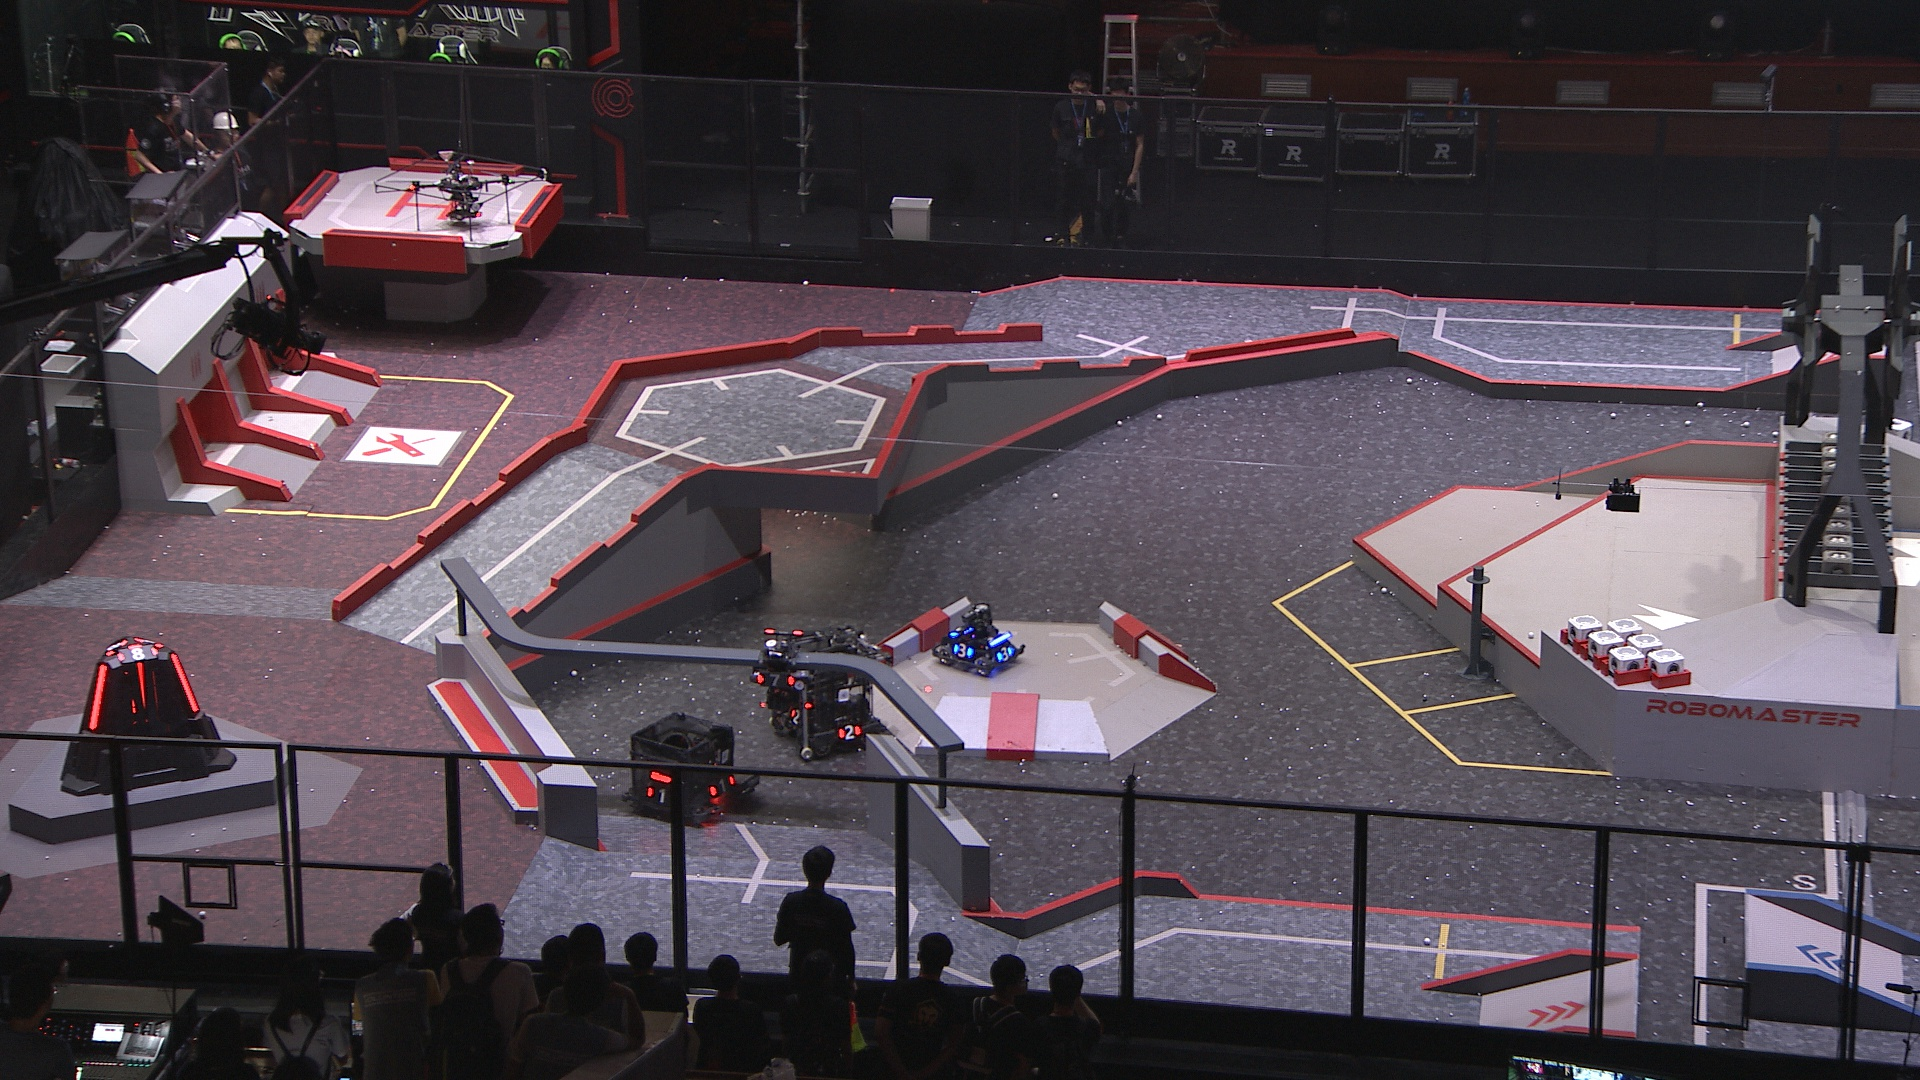armor: (171, 654, 199, 713), (87, 662, 107, 727), (647, 787, 680, 806), (754, 670, 795, 684), (135, 661, 148, 705), (116, 646, 156, 659), (103, 633, 124, 657), (709, 777, 737, 794), (837, 723, 860, 742), (949, 642, 973, 659), (785, 705, 803, 727), (997, 644, 1015, 662), (949, 626, 965, 637)
base: (55, 632, 239, 794)
car: (764, 624, 884, 756), (622, 712, 764, 822), (930, 603, 1026, 679)
watcher: (752, 624, 806, 709)
